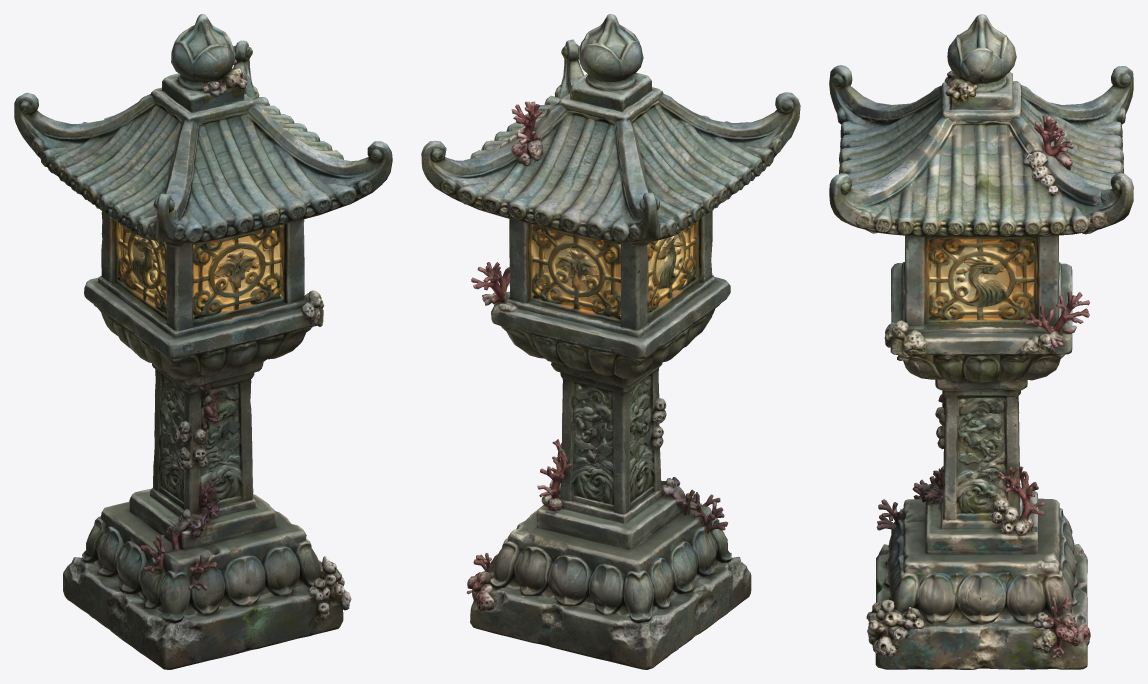
The model's file is T16_lantern.glb.
3 views of the same model, side by side, from view 1: azimuth 30°, elevation 25°; view 2: azimuth 150°, elevation 25°; view 3: azimuth 270°, elevation 25° (orthographic). The views are drawn at different scales.
Parts seen in each view (by area): view 1: tripo_node_d413df2d-0754-463f-a5dd-9ba359512fff; view 2: tripo_node_d413df2d-0754-463f-a5dd-9ba359512fff; view 3: tripo_node_d413df2d-0754-463f-a5dd-9ba359512fff.
Boxes of the visible parts, x1=… form: tripo_node_d413df2d-0754-463f-a5dd-9ba359512fff: x1=14, y1=14, x2=392, y2=669; tripo_node_d413df2d-0754-463f-a5dd-9ba359512fff: x1=421, y1=14, x2=800, y2=669; tripo_node_d413df2d-0754-463f-a5dd-9ba359512fff: x1=829, y1=14, x2=1133, y2=669.
Bounding box in the file's own units: 0.4017 × 0.978 × 0.4417.
Materials: 1 (1 with a texture image).
